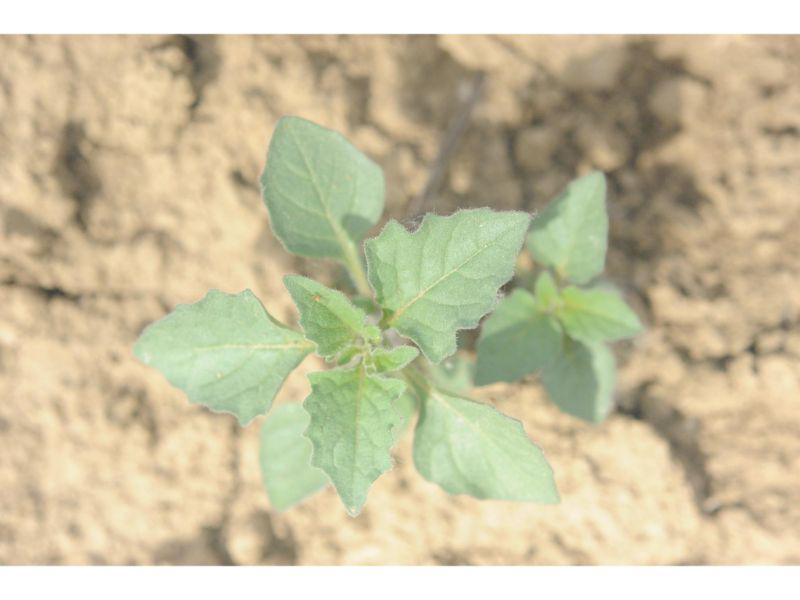nightshade: (135, 116, 640, 519)
